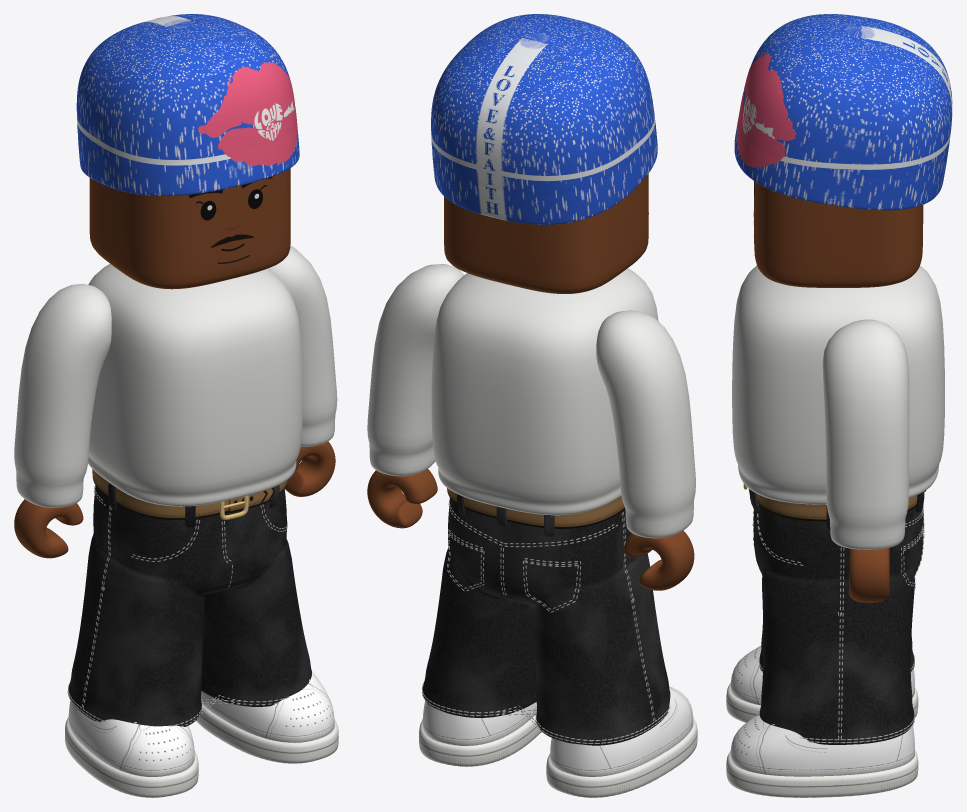
File: V2_iter1.glb
The picture shows the model from 3 angles, left to right: view 1: azimuth 30°, elevation 25°; view 2: azimuth 150°, elevation 25°; view 3: azimuth 270°, elevation 25°; orthographic projection.
Visible parts, largest first — view 1: Sweat, Jean, Bonnet, Tete, Bonnet_Logo, Basket_D, Basket_G, Mains, Semelle_G, Semelle_D, Ceinture, Surpiqures; view 2: Sweat, Jean, Bonnet, Tete, Mains, Basket_D, Semelle_D, Basket_G, Surpiqures, Semelle_G, Ceinture, Bonnet_Inscription; view 3: Sweat, Bonnet, Jean, Tete, Basket_G, Bonnet_Logo, Semelle_G, Mains, Basket_D, Surpiqures, Ceinture, Semelle_D.
Part boxes in pixels (x1,y1,x2,y2): Sweat: [14, 245, 337, 507]; Jean: [68, 483, 311, 726]; Bonnet: [76, 14, 299, 195]; Tete: [89, 168, 290, 289]; Bonnet_Logo: [198, 62, 297, 165]; Basket_D: [68, 700, 194, 776]; Basket_G: [201, 671, 334, 742]; Mains: [14, 441, 335, 558]; Semelle_G: [196, 704, 338, 763]; Semelle_D: [65, 717, 198, 797]; Ceinture: [92, 469, 287, 519]; Surpiqures: [67, 485, 289, 726]; Sweat: [367, 264, 695, 538]; Jean: [422, 494, 670, 745]; Bonnet: [431, 14, 657, 224]; Tete: [444, 174, 648, 293]; Mains: [367, 469, 694, 590]; Basket_D: [550, 686, 693, 776]; Semelle_D: [546, 718, 697, 797]; Basket_G: [422, 701, 536, 745]; Surpiqures: [422, 497, 670, 743]; Semelle_G: [419, 715, 541, 766]; Ceinture: [447, 488, 625, 528]; Bonnet_Inscription: [483, 65, 514, 214]; Sweat: [732, 265, 944, 549]; Bonnet: [734, 14, 952, 210]; Jean: [749, 490, 925, 744]; Tete: [754, 181, 923, 287]; Basket_G: [730, 714, 914, 776]; Bonnet_Logo: [736, 53, 796, 167]; Semelle_G: [726, 750, 918, 797]; Mains: [849, 548, 889, 602]; Basket_D: [730, 646, 914, 705]; Surpiqures: [752, 503, 924, 743]; Ceinture: [758, 494, 917, 521]; Semelle_D: [726, 683, 918, 722].
Size of the model in its own units: 0.4819 by 1.05 by 0.302.
15 materials, 10 textured.
